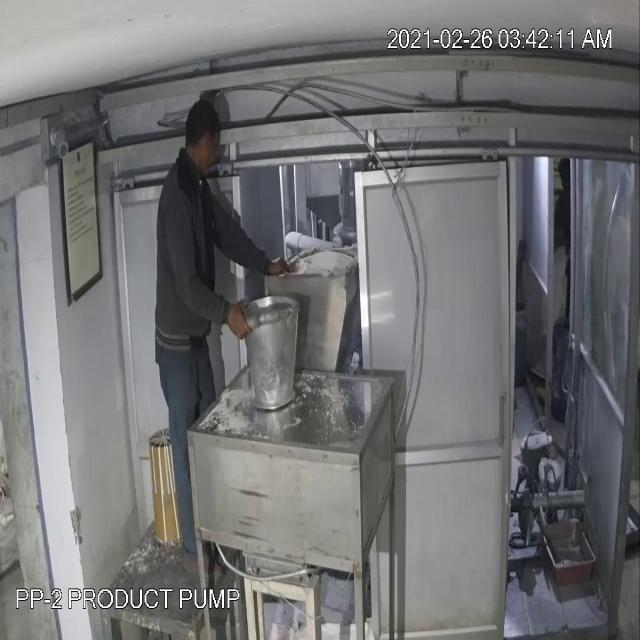no-helmet: (180, 98, 225, 181)
